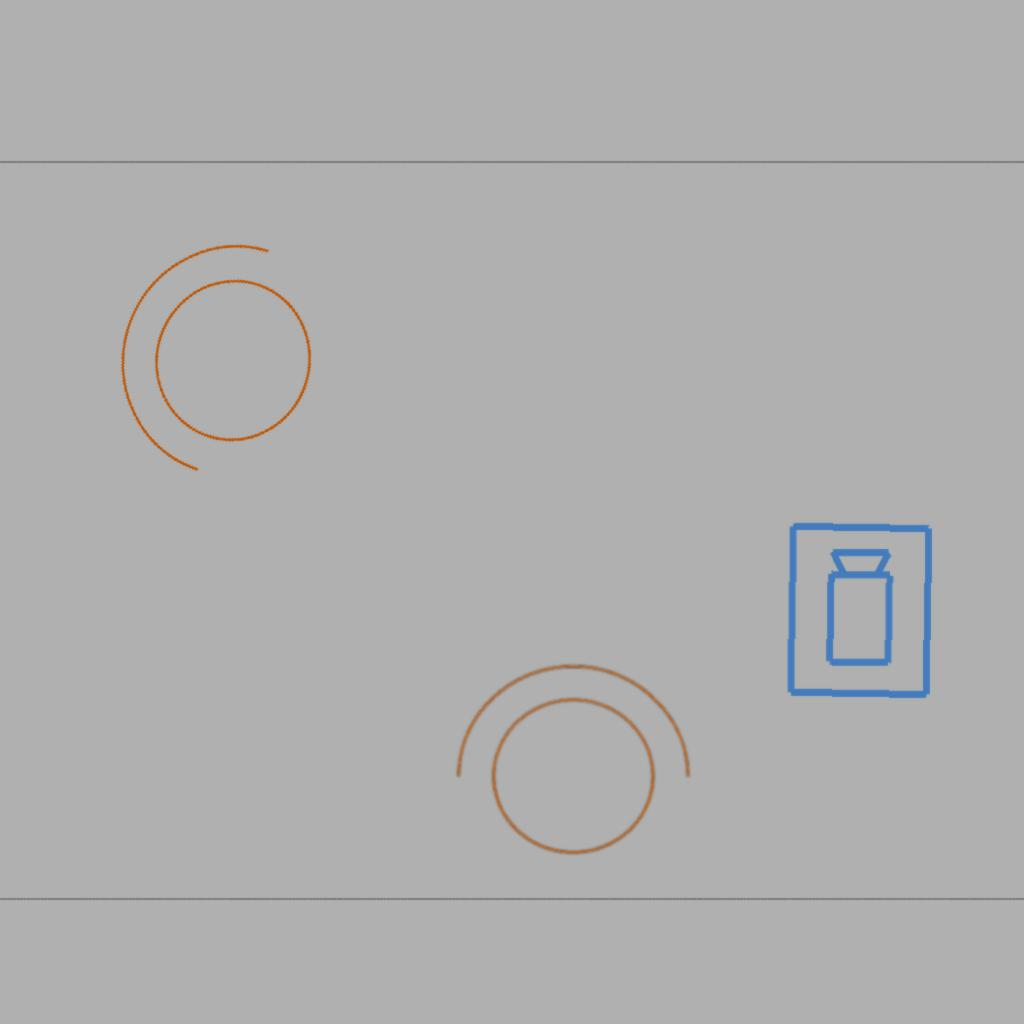KFO_Kamera_mit_Festobjektiv: (782, 518, 940, 704)
Scheinwerfer_fuer_Alarmbeleuchtung: (74, 203, 370, 524), (435, 654, 699, 879)
